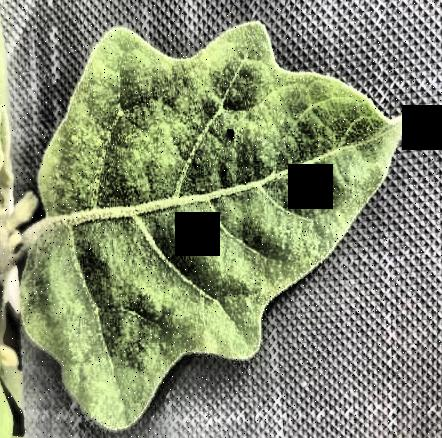HEALTHY: (0, 1, 442, 438)
